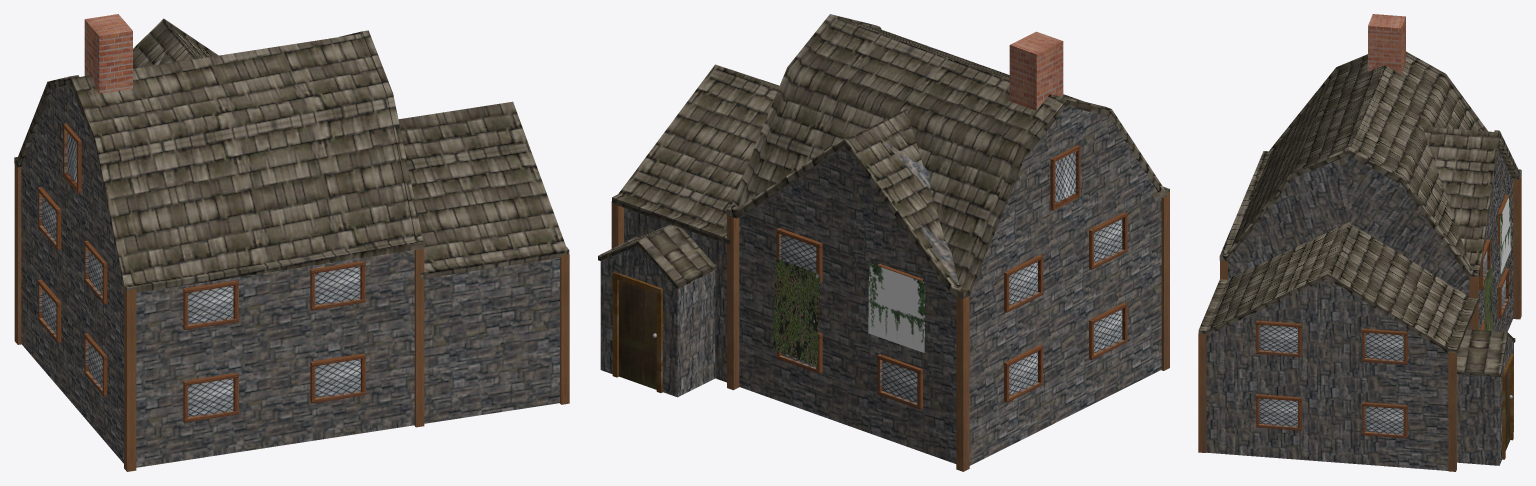
Rendered from House_02_03_06.fbx.
3 renders of one model, left to right at view 1: azimuth 30°, elevation 25°; view 2: azimuth 150°, elevation 25°; view 3: azimuth 270°, elevation 25°, orthographic. The views are drawn at different scales.
Visible parts, largest first — view 1: House_02:polySurface1, pCube61, pCube121, pCube119, pCube122, pCube120, pCube111, pCube108, pCube109, pCube104, pCube116, pCube112 (+3 smaller); view 2: House_02:polySurface1, vines, vines1, pCube61, pCube104, pCube107, pCube121, pCube115, pCube112, pCube116, pCube113, pCube114 (+2 smaller); view 3: House_02:polySurface1, pCube61, pCube121 (×2), pCube119 (×2), pCube122, pCube120, pCube104, pCube110, pCube109, vines1, vines, pCube107.
Boxes of the visible parts, x1,y1,x2,y2 form: House_02:polySurface1: (14,18,569,467); pCube61: (84,14,132,93); pCube121: (310,353,365,403); pCube119: (183,280,238,329); pCube122: (183,373,238,422); pCube120: (310,261,365,310); pCube111: (124,289,136,471); pCube108: (414,249,424,427); pCube109: (560,254,569,404); pCube104: (14,164,21,344); pCube116: (63,123,81,193); pCube112: (38,187,61,250); House_02:polySurface1: (598,14,1169,465); vines: (772,258,820,366); vines1: (868,263,925,352); pCube61: (1009,31,1063,110); pCube104: (956,296,969,471); pCube107: (727,215,739,390); pCube121: (877,354,922,409); pCube115: (1004,344,1043,402); pCube112: (1004,254,1043,312); pCube116: (1050,145,1080,210); pCube113: (1089,212,1127,269); pCube114: (1089,302,1127,359); House_02:polySurface1: (1198,51,1521,470); pCube61: (1368,14,1405,73); pCube121 (×2): (1362,268,1508,438); pCube119 (×2): (1256,239,1490,356); pCube122: (1256,394,1301,430); pCube120: (1362,328,1407,364); pCube104: (1513,175,1521,319); pCube110: (1448,352,1456,471); pCube109: (1198,333,1206,452); vines1: (1500,193,1510,273); vines: (1484,263,1492,331); pCube107: (1469,276,1478,330).
Bounding box in the file's own units: 158 × 126 × 123.
